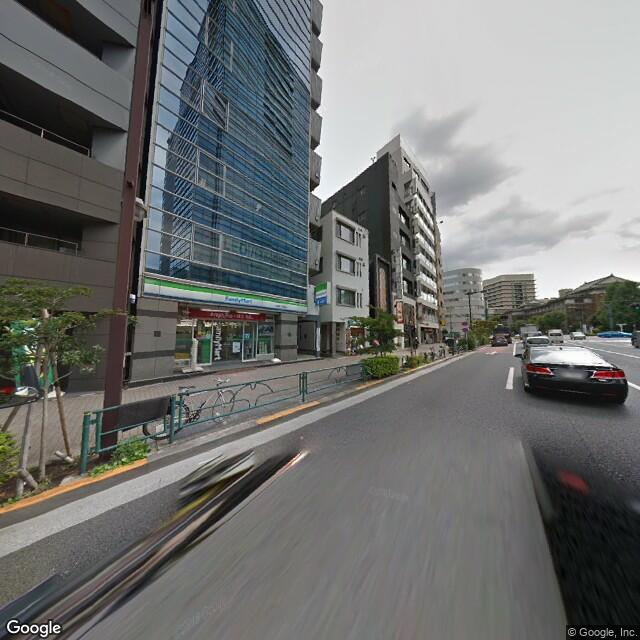family_mart: (140, 276, 307, 322), (314, 278, 330, 304)
